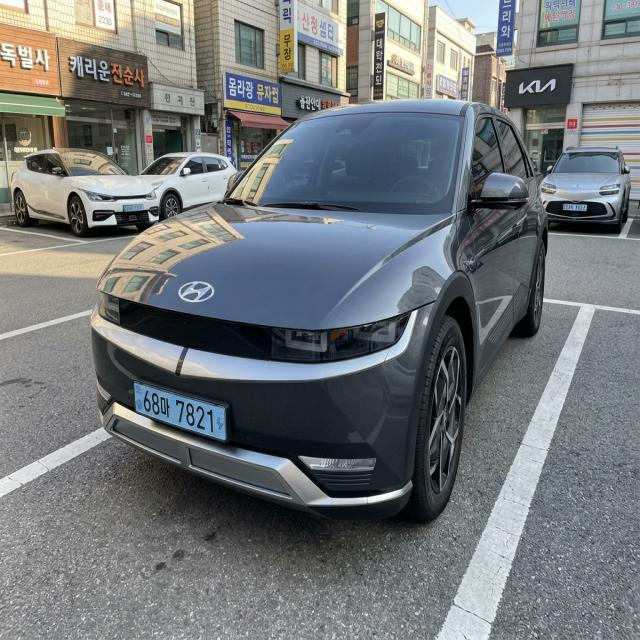car: (129, 368, 251, 454), (557, 200, 596, 221), (117, 196, 148, 218)
carev: (215, 406, 227, 445), (133, 380, 144, 417), (121, 201, 127, 217), (561, 199, 566, 216), (585, 202, 591, 216), (142, 200, 146, 216)
